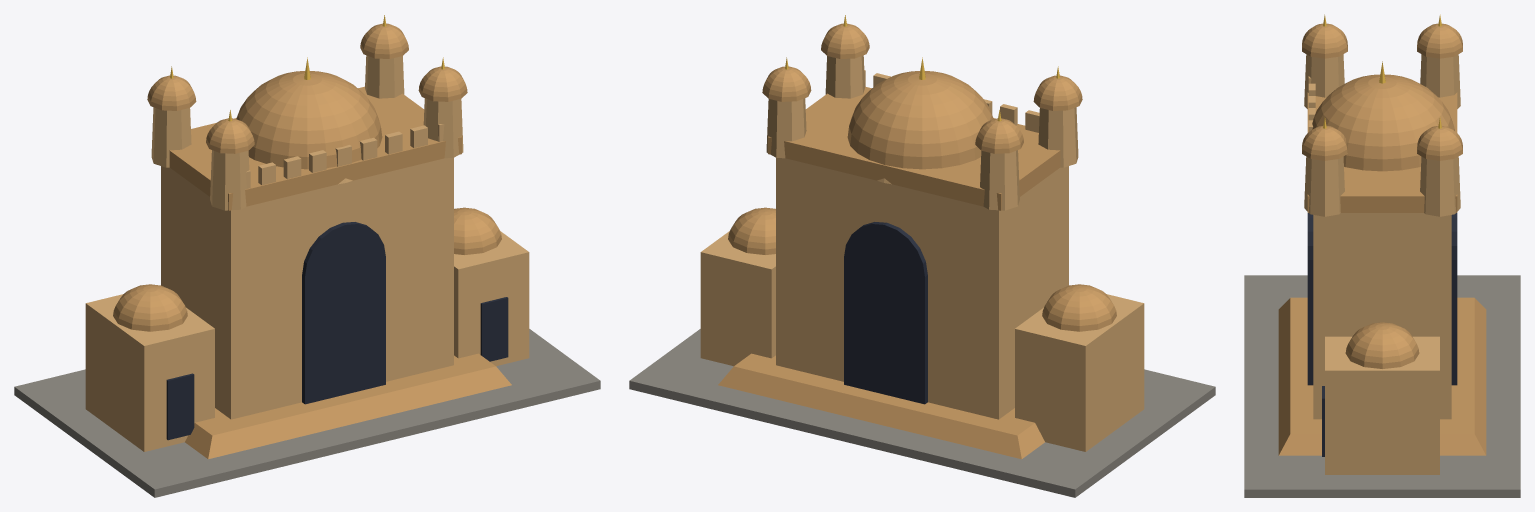
File: gateway-of-india.glb
3 views of the same model, side by side, from view 1: azimuth 30°, elevation 25°; view 2: azimuth 150°, elevation 25°; view 3: azimuth 270°, elevation 25° (orthographic).
Parts seen in each view (by area): view 1: gateway-of-india; view 2: gateway-of-india; view 3: gateway-of-india.
Boxes of the visible parts, x1=… form: gateway-of-india: x1=14, y1=15, x2=600, y2=497; gateway-of-india: x1=629, y1=15, x2=1215, y2=497; gateway-of-india: x1=1244, y1=14, x2=1520, y2=497.
Bounding box in the file's own units: 5.57 × 4 × 3.04.
